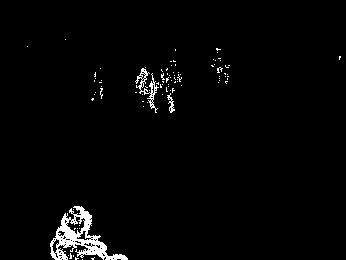person: (49, 205, 124, 260), (161, 59, 182, 115), (135, 67, 158, 112)
